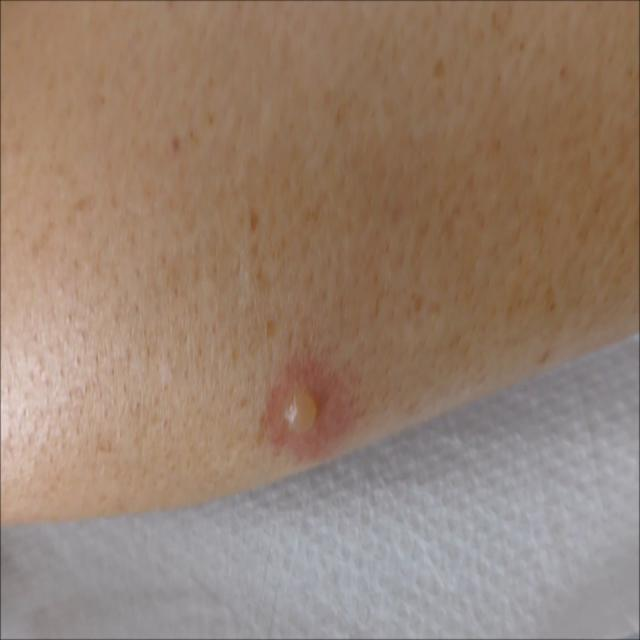kan emici bocekler: (260, 343, 342, 465)
